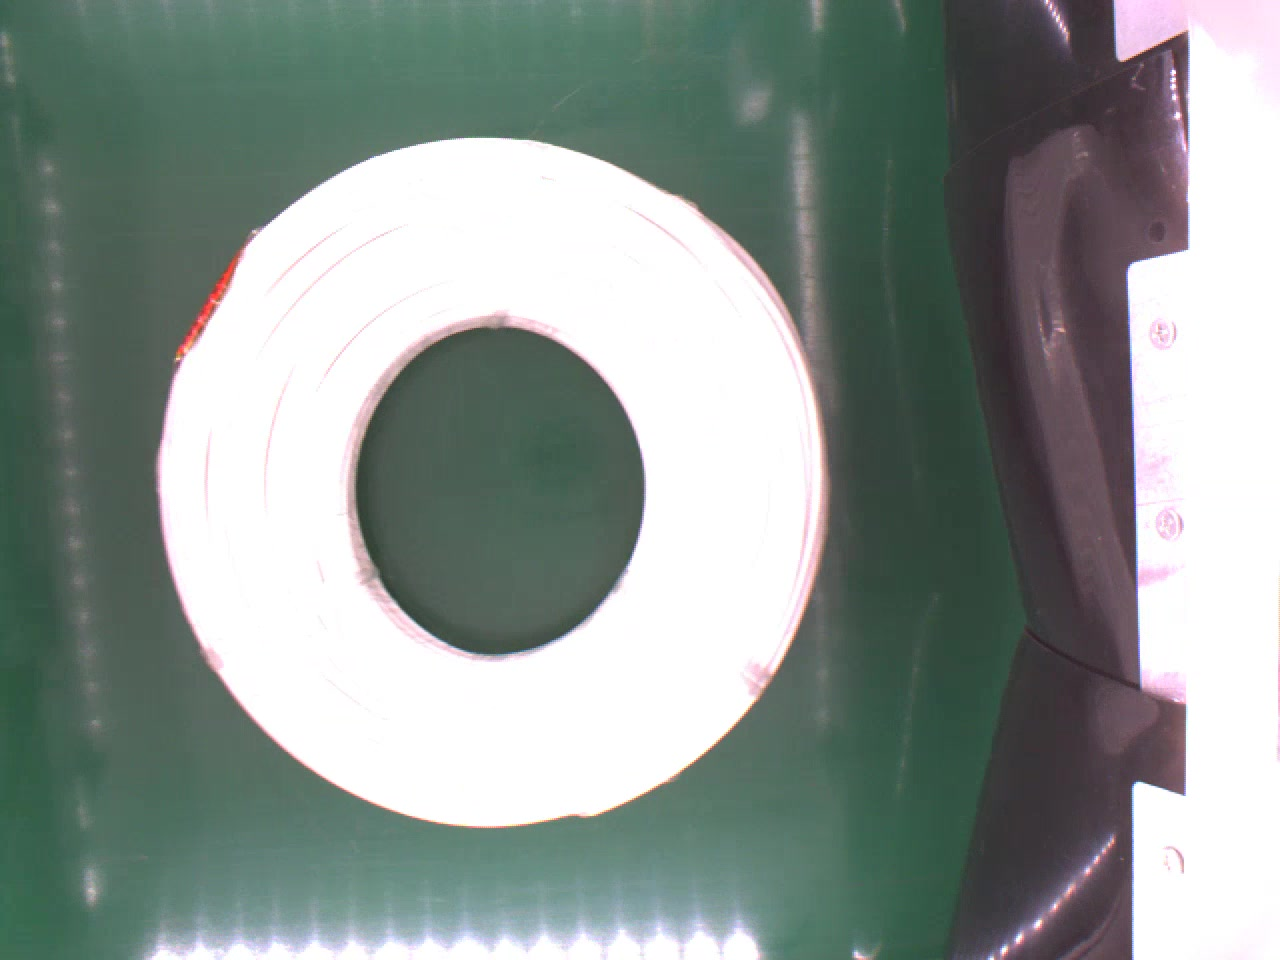white: (151, 127, 851, 829)
